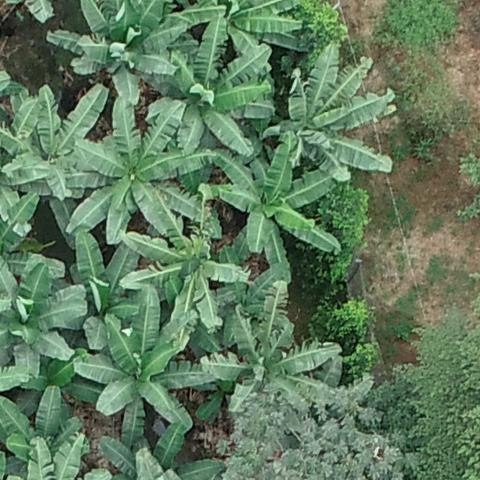Banana-plant: (72, 106, 204, 241), (210, 284, 337, 419), (83, 305, 208, 438), (277, 47, 399, 183), (210, 148, 344, 269), (155, 29, 278, 159), (125, 220, 255, 329), (57, 0, 181, 103), (4, 85, 112, 203), (0, 256, 92, 374), (72, 236, 162, 341)
